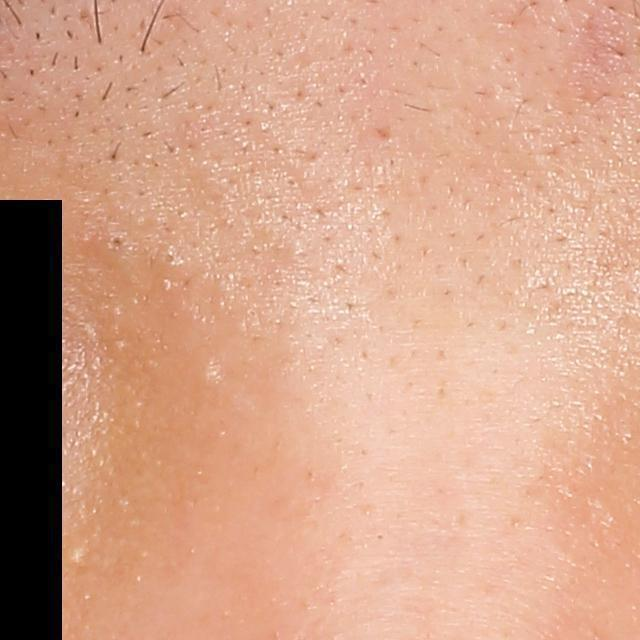comedo: (97, 222, 133, 260), (195, 357, 226, 392)
